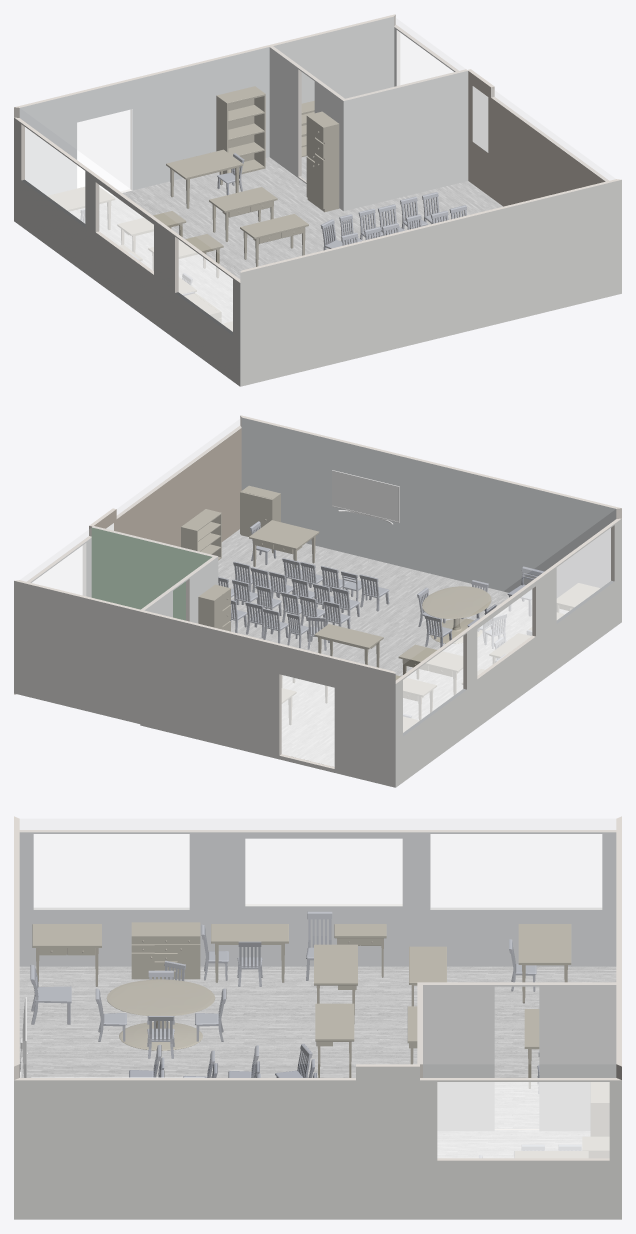
3 views of the same model, one above another, from view 1: azimuth 30°, elevation 25°; view 2: azimuth 150°, elevation 25°; view 3: azimuth 270°, elevation 25° (orthographic). The views are drawn at different scales.
Parts seen in each view (by area): view 1: ceiling_Dining Room_1, wall_1 (×2), wall_5 (×2), floor_Dining Room_1, wall_0 (×3), wall_2, wall_3 (×3), ceiling_Dining Room_2, door_0 (×2), wall_6, window_1 (×2), window_0 (×2) (+12 smaller); view 2: ceiling_Dining Room_1, wall_1 (×2), wall_5 (×2), floor_Dining Room_1, wall_0 (×3), wall_6, ceiling_Dining Room_2, door_0 (×2), wall_3 (×2), wall_2, window_1 (×2), window_0 (×2) (+14 smaller); view 3: ceiling_Dining Room_1, wall_3 (×2), floor_Dining Room_1, wall_0 (×3), window_6 (×2), window_1 (×2), window_0 (×2), window_2 (×2), wall_7 (×2), ceiling_Dining Room_2, wall_4 (×2), table7 (+19 smaller).
Boxes of the visible parts, x1,y1,x2,y2 form: ceiling_Dining Room_1: (21, 47, 614, 269); wall_1 (×2): (240, 179, 621, 386); wall_5 (×2): (14, 45, 270, 195); floor_Dining Room_1: (70, 157, 502, 323); wall_0 (×3): (14, 117, 240, 386); wall_2: (343, 71, 468, 210); wall_3 (×3): (467, 69, 608, 206); ceiling_Dining Room_2: (272, 17, 465, 99); door_0 (×2): (77, 109, 132, 192); wall_6: (273, 16, 394, 103); window_1 (×2): (25, 127, 84, 222); window_0 (×2): (179, 240, 232, 331); ceiling_Dining Room_1: (94, 418, 614, 670); wall_1 (×2): (240, 415, 621, 597); wall_5 (×2): (140, 610, 395, 787); floor_Dining Room_1: (218, 529, 568, 766); wall_0 (×3): (395, 518, 621, 787); wall_6: (14, 581, 140, 723); ceiling_Dining Room_2: (21, 527, 213, 609); door_0 (×2): (282, 675, 334, 766); wall_3 (×2): (89, 425, 241, 546); wall_2: (91, 527, 211, 620); window_1 (×2): (403, 636, 462, 732); window_0 (×2): (557, 528, 610, 619); ceiling_Dining Room_1: (20, 819, 615, 1063); wall_3 (×2): (14, 1064, 419, 1219); floor_Dining Room_1: (19, 966, 616, 1128); wall_0 (×3): (19, 830, 616, 966); window_6 (×2): (437, 1082, 609, 1157); window_1 (×2): (430, 834, 601, 909); window_0 (×2): (34, 834, 189, 909); window_2 (×2): (245, 839, 402, 905); wall_7 (×2): (417, 982, 616, 1130); ceiling_Dining Room_2: (420, 984, 615, 1063); wall_4 (×2): (420, 1078, 621, 1219); table7: (106, 979, 215, 1050).
Size of the model in its own units: 10.57 by 3.02 by 10.85.
Materials: 81 (2 with a texture image).
